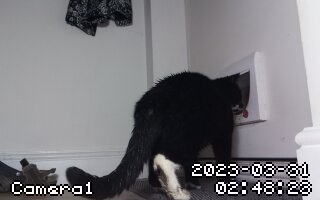bad: (69, 74, 245, 200)
